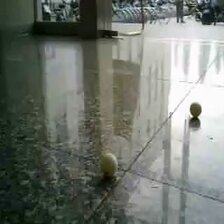w: (100, 152, 117, 177), (189, 103, 203, 118)
